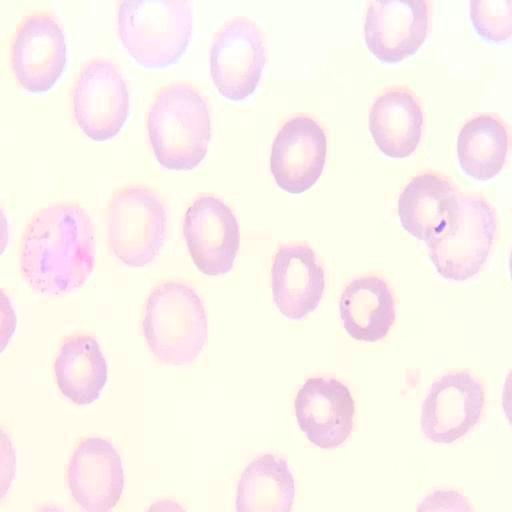Infected: (21, 203, 95, 295)
Uninfected: (146, 84, 211, 168), (142, 283, 208, 364), (118, 1, 190, 67), (107, 187, 166, 266), (419, 371, 483, 443), (208, 18, 266, 97), (430, 201, 490, 277), (182, 195, 239, 274), (269, 116, 327, 191), (73, 61, 128, 139), (11, 14, 67, 90), (294, 376, 353, 447), (398, 173, 459, 240), (67, 437, 122, 509), (270, 244, 324, 317), (364, 0, 428, 59), (339, 276, 395, 343), (371, 90, 423, 159), (54, 336, 106, 403), (454, 114, 507, 178)
